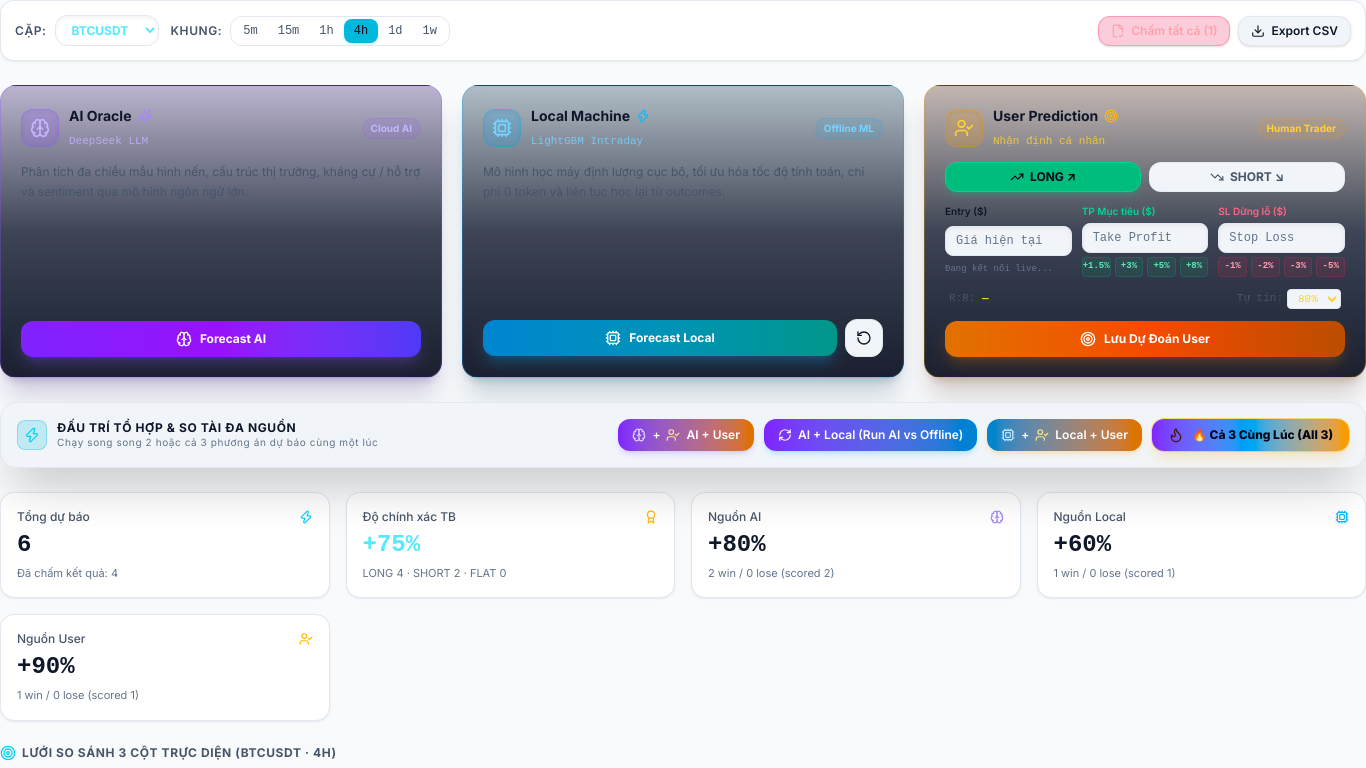
Scenario: ForecastCompare UI and 3-Cluster Command Deck › prompts confirmation when forecast price delta is < 1% and keeps it when user clicks proceed
Click the button "Forecast Local": (660,338) [483, 320, 837, 356]
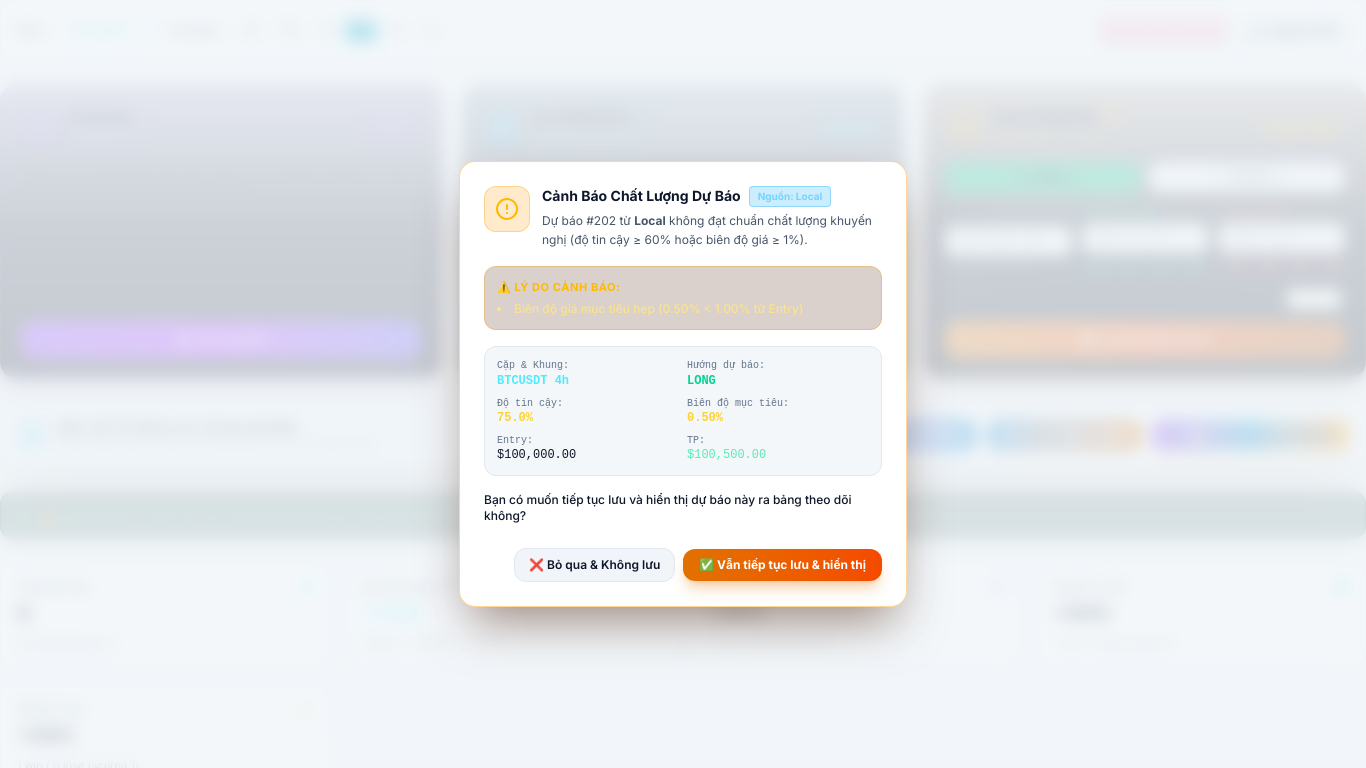
Check: the dialog is shown
Note: Click Proceed
Click the button "✅ Vẫn tiếp tục lưu & hiển thị": (783,565) [683, 549, 882, 581]
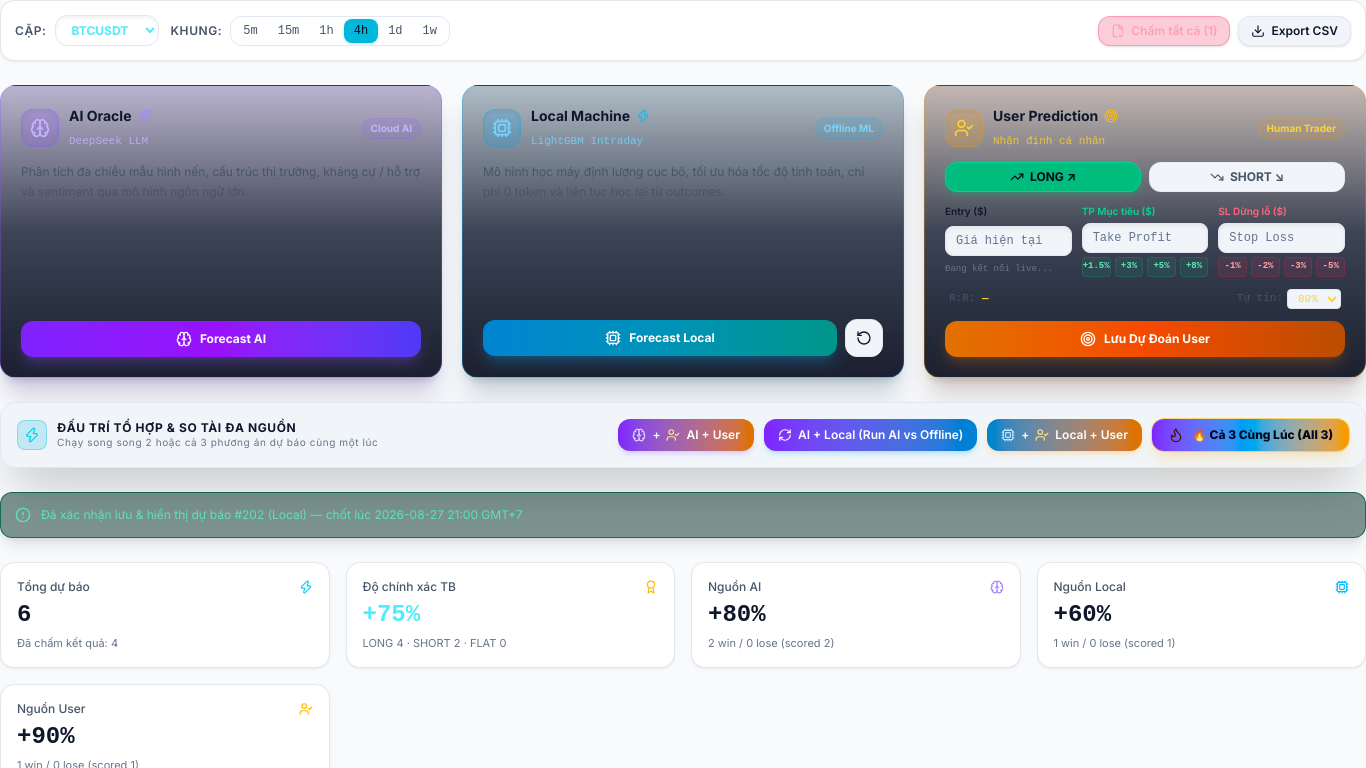
Check: the text "Đã xác nhận lưu & hiển thị dự báo #202" is shown, box [41, 506, 522, 522]
Check: the dialog is gone
